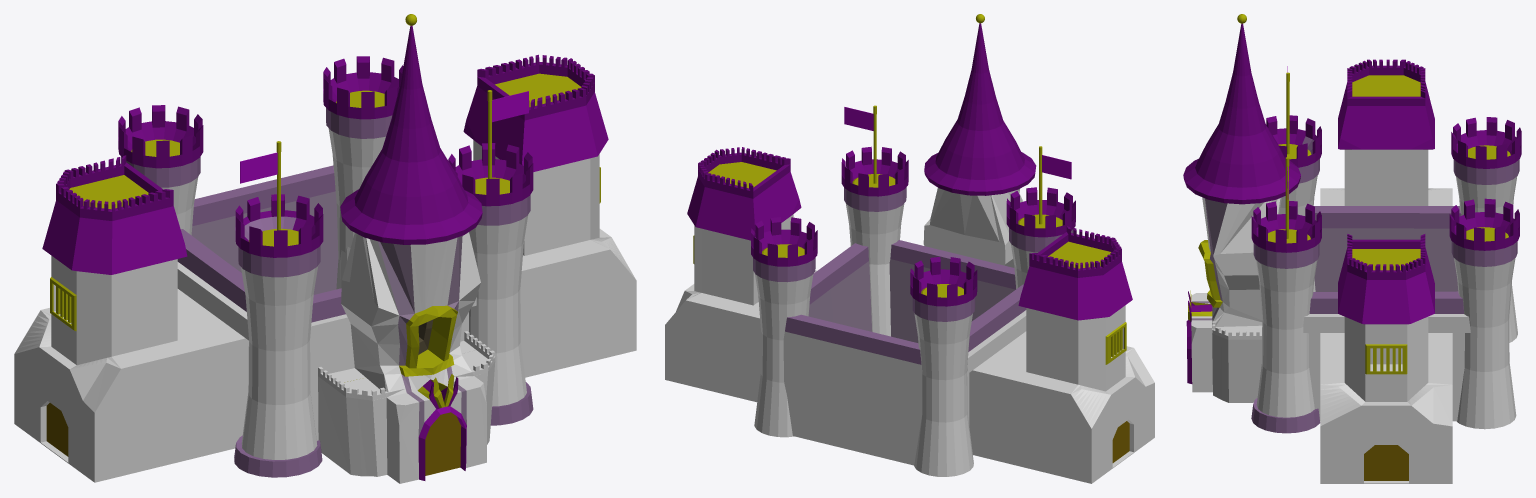
File: chateau.fbx
3 views of the same model, side by side, from view 1: azimuth 30°, elevation 25°; view 2: azimuth 150°, elevation 25°; view 3: azimuth 270°, elevation 25° (orthographic). The views are drawn at different scales.
Parts seen in each view (by area): view 1: pCube5; view 2: pCube5; view 3: pCube5.
Part boxes in pixels (left/top/right/bottom): pCube5: left=14, top=14, right=636, bottom=483; pCube5: left=665, top=14, right=1154, bottom=483; pCube5: left=1183, top=14, right=1521, bottom=483.
Bounding box in the file's own units: 20.3 × 15.71 × 13.33.
